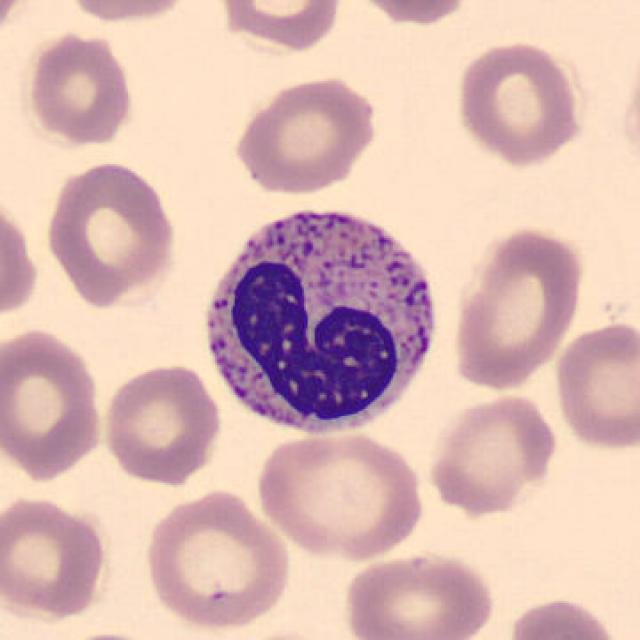Neutrophil: (190, 190, 448, 446)
RBC: (446, 222, 588, 393), (251, 427, 428, 562), (140, 487, 294, 631), (41, 157, 181, 308), (230, 72, 382, 196), (449, 37, 586, 168), (423, 390, 562, 518), (0, 322, 108, 483), (98, 359, 226, 486), (340, 548, 500, 640), (0, 492, 110, 624), (23, 27, 137, 148), (551, 317, 638, 453), (210, 0, 346, 53), (501, 592, 626, 640), (0, 203, 44, 320), (338, 0, 480, 26), (60, 0, 197, 26), (617, 48, 640, 184), (41, 627, 183, 640), (222, 627, 362, 640), (0, 0, 34, 46)
